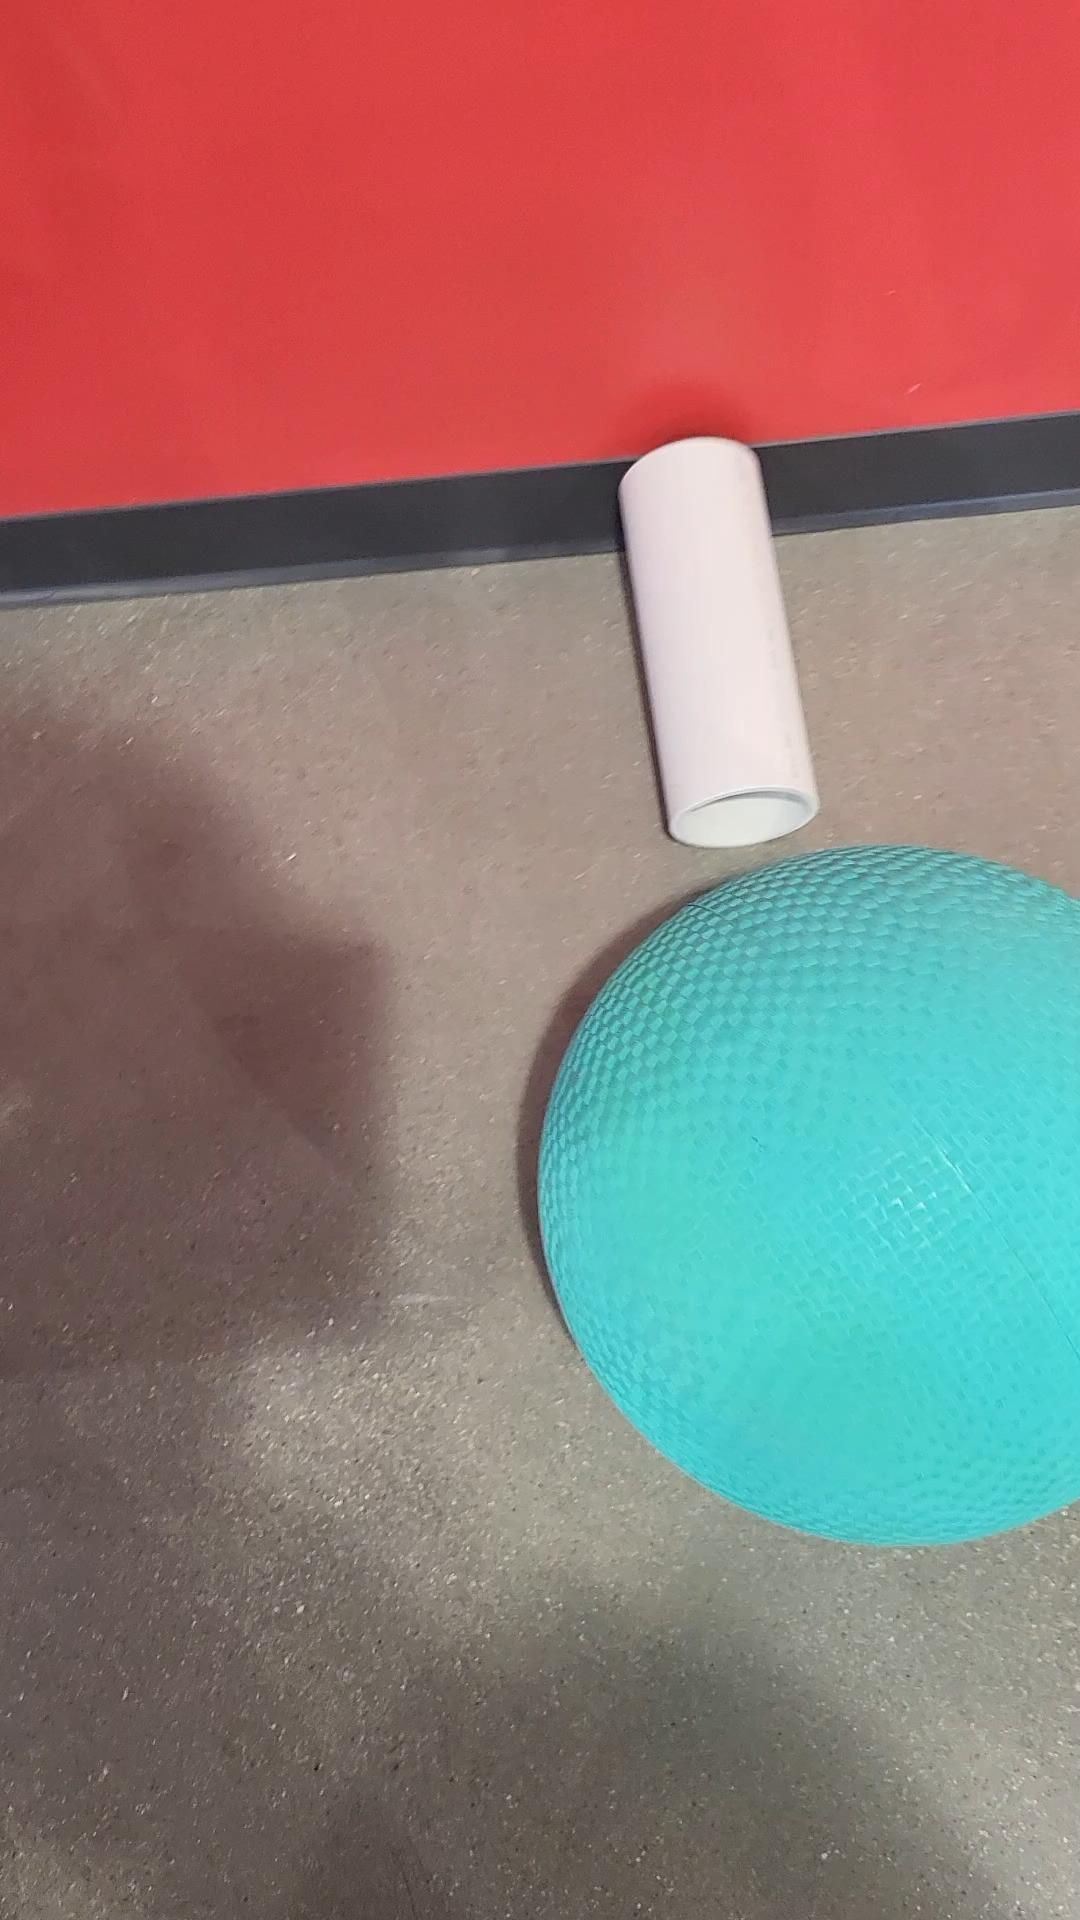algae: (531, 841, 1080, 1552)
coral: (616, 426, 855, 861)
